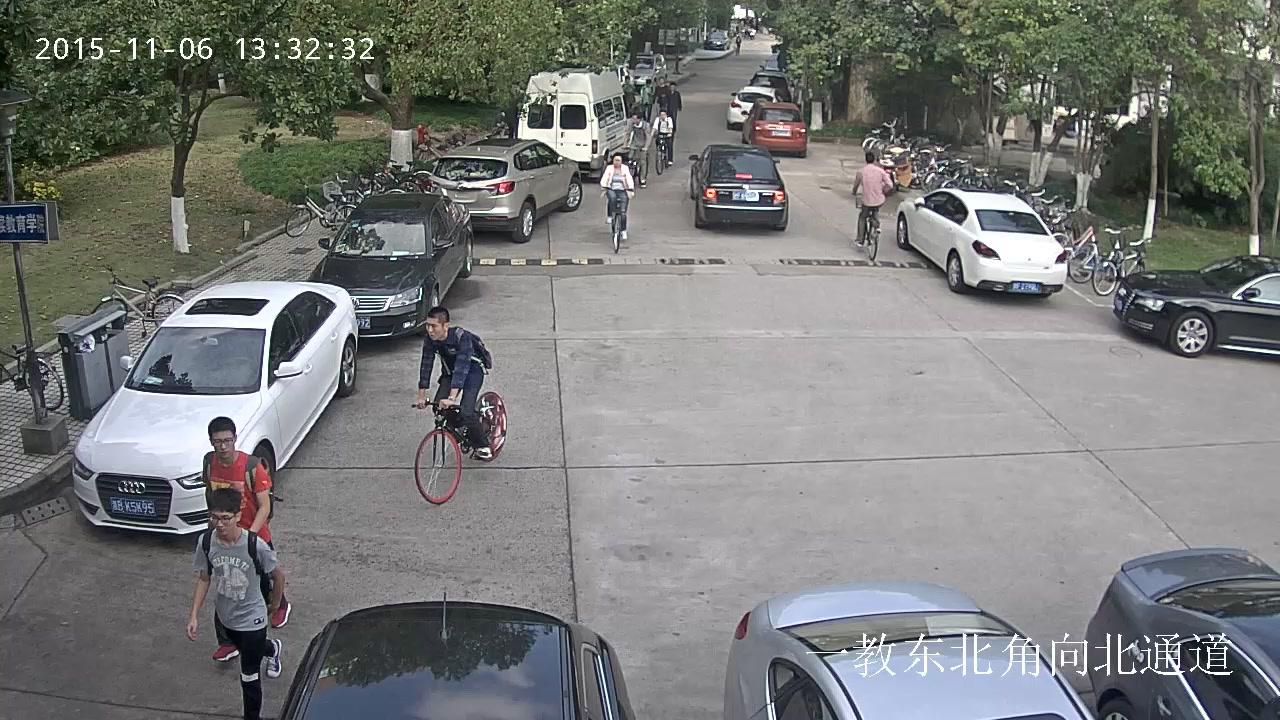person: (186, 487, 283, 720), (201, 416, 291, 662), (411, 307, 507, 504), (417, 307, 493, 459), (852, 152, 892, 260), (853, 152, 892, 248), (600, 154, 634, 252), (600, 154, 634, 239), (626, 113, 651, 188), (626, 113, 651, 186), (650, 109, 673, 175), (651, 109, 672, 166), (665, 82, 681, 133), (640, 78, 654, 120), (622, 75, 634, 113), (656, 77, 666, 110)
